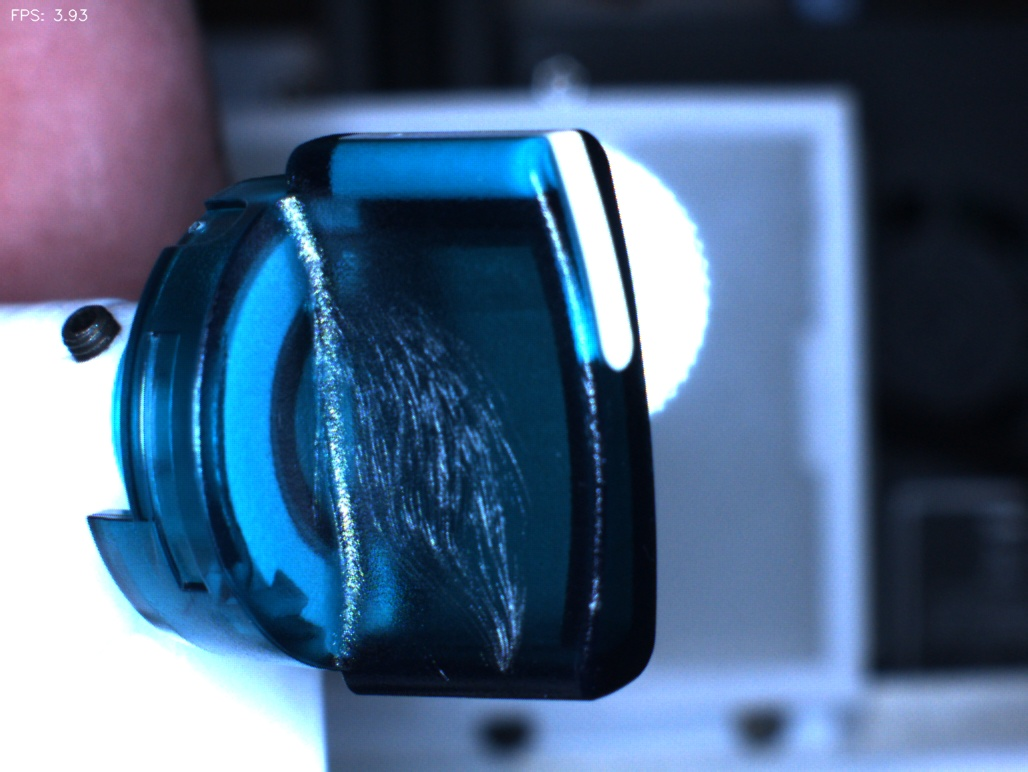Givrage: (326, 288, 550, 669)
